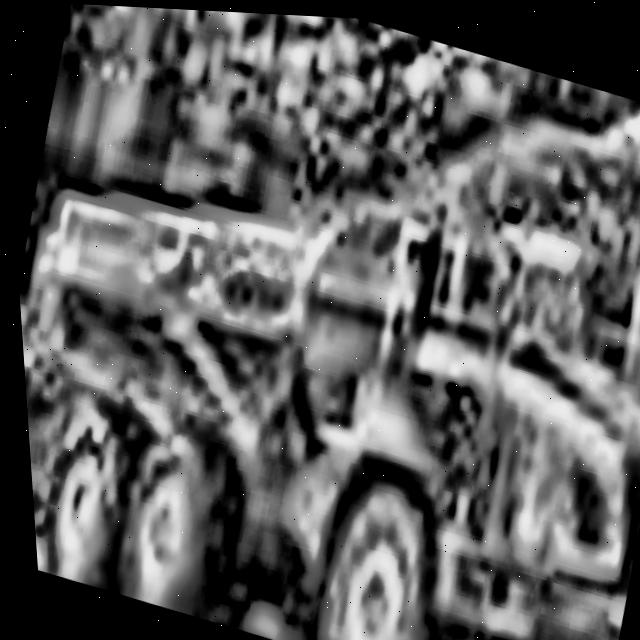dump_truck: (3, 50, 640, 640)
